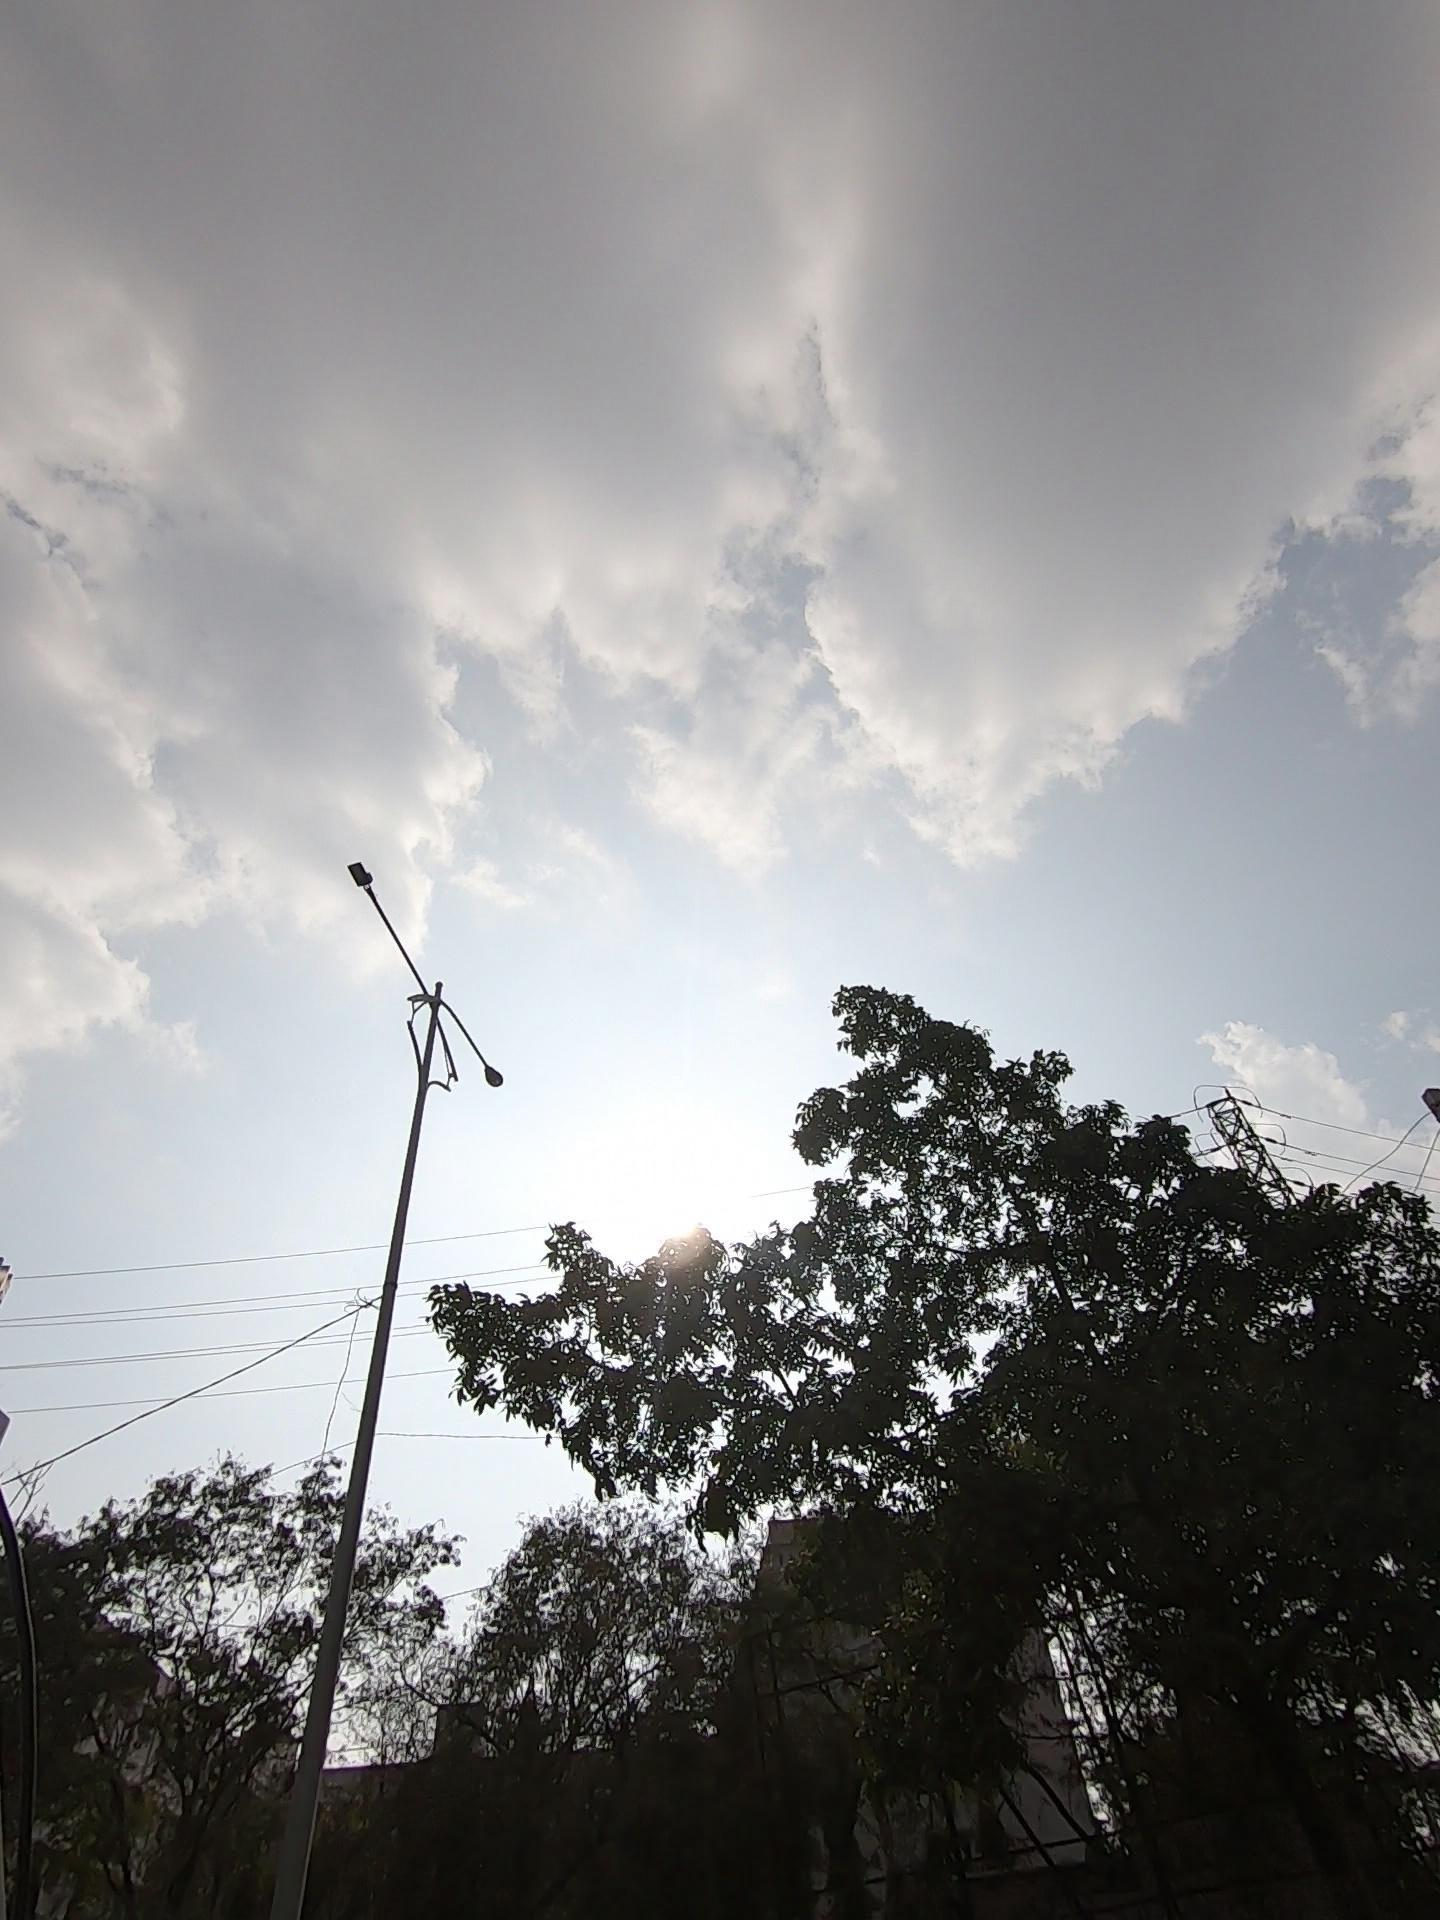off: (306, 825, 599, 1203)
